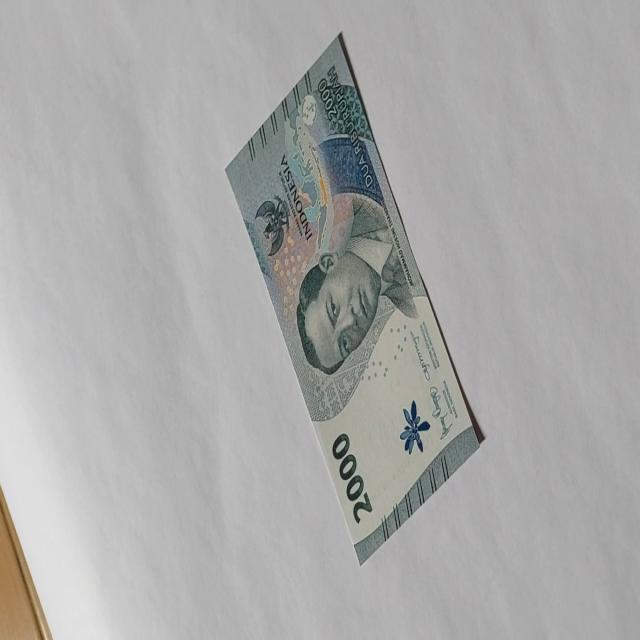dua ribu rupiah: (223, 31, 482, 565), (295, 190, 418, 376)
